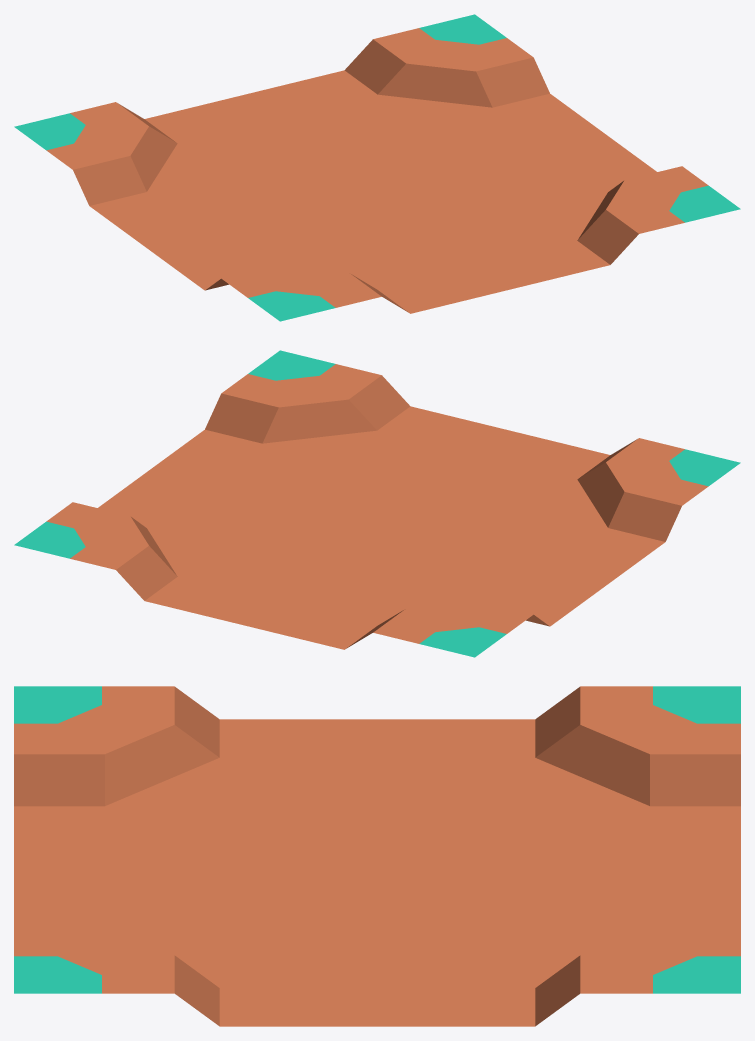
Rendered from pathCross.obj.
The picture shows the model from 3 angles, top to bottom: view 1: azimuth 30°, elevation 25°; view 2: azimuth 150°, elevation 25°; view 3: azimuth 270°, elevation 25°; orthographic projection. The views are drawn at different scales.
Size of the model in its own units: 1 by 0.05 by 1.
